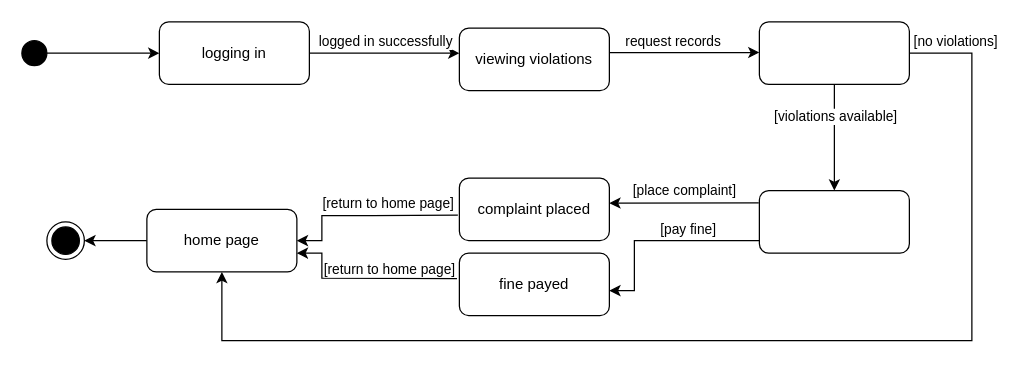
The diagram is 1019 pixels wide and 373 high, and some of its shapes have lost their labels. The shapes that lost their labels are listed below. From the top down, each one's centre as x and y in pixels, then its label:
At [833,52]: "violations listed".
At [833,221]: "viewing violation details".
